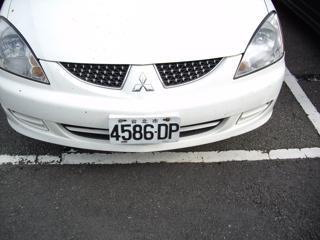plate: (106, 117, 181, 145)
